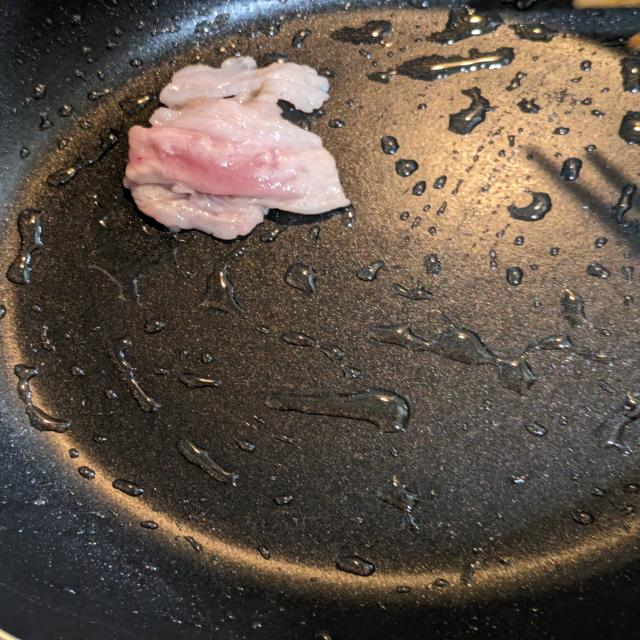NG undercooked pork,: (118, 49, 367, 248)
